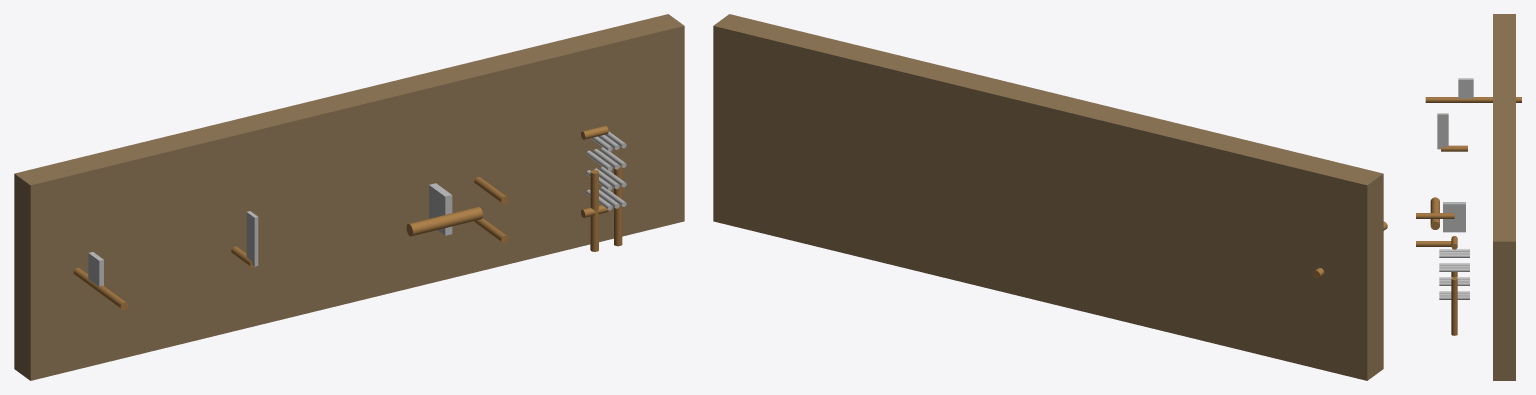
File: farm_tools_3d.glb
The picture shows the model from 3 angles, left to right: view 1: azimuth 30°, elevation 25°; view 2: azimuth 150°, elevation 25°; view 3: azimuth 270°, elevation 25°; orthographic projection. The views are drawn at different scales.
Visible parts, largest first — view 1: world; view 2: world; view 3: world.
Part boxes in pixels (<box>): world: <box>14,14,684,380</box>; world: <box>713,14,1387,380</box>; world: <box>1416,14,1521,380</box>.
Bounding box in the file's own units: 14 × 4 × 2.75.
